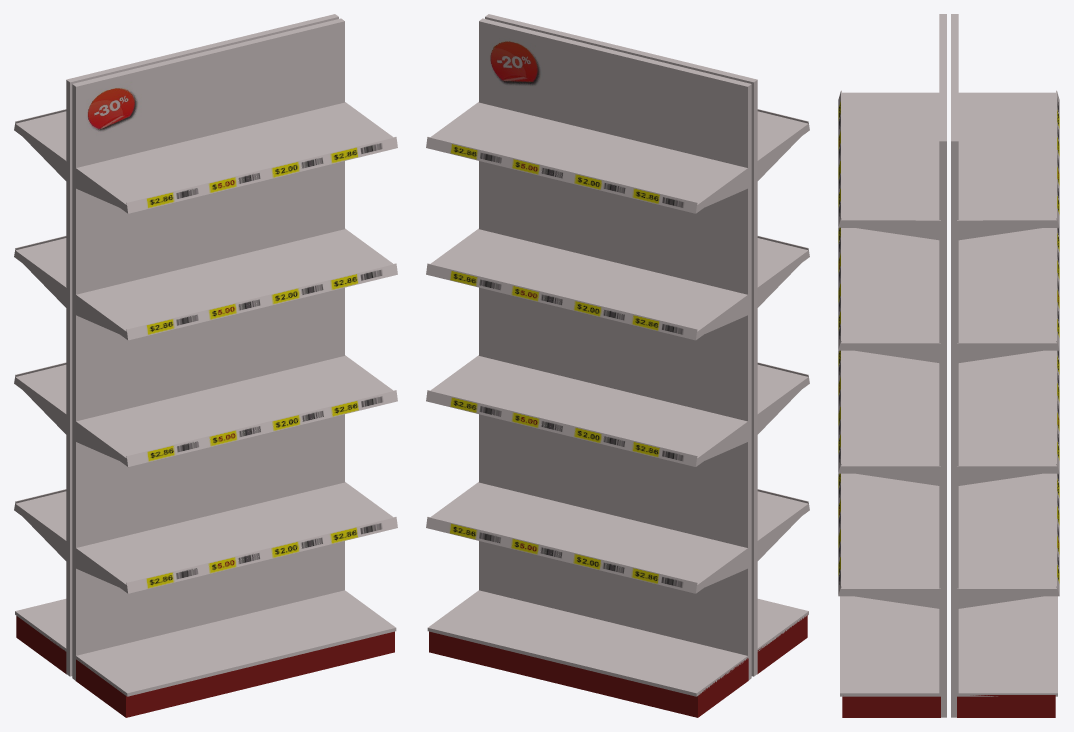
File: shelves.glb
3 views of the same model, side by side, from view 1: azimuth 30°, elevation 25°; view 2: azimuth 150°, elevation 25°; view 3: azimuth 270°, elevation 25° (orthographic). The views are drawn at different scales.
Parts seen in each view (by area): view 1: Shelving 1; view 2: Shelving 1; view 3: Shelving 1.
Boxes of the visible parts, x1,y1,x2,y2 form: Shelving 1: (14, 14, 397, 717); Shelving 1: (426, 14, 809, 717); Shelving 1: (838, 14, 1059, 717).
Size of the model in its own units: 0.975 by 2.05 by 0.7145.
Materials: 1 (1 with a texture image).
